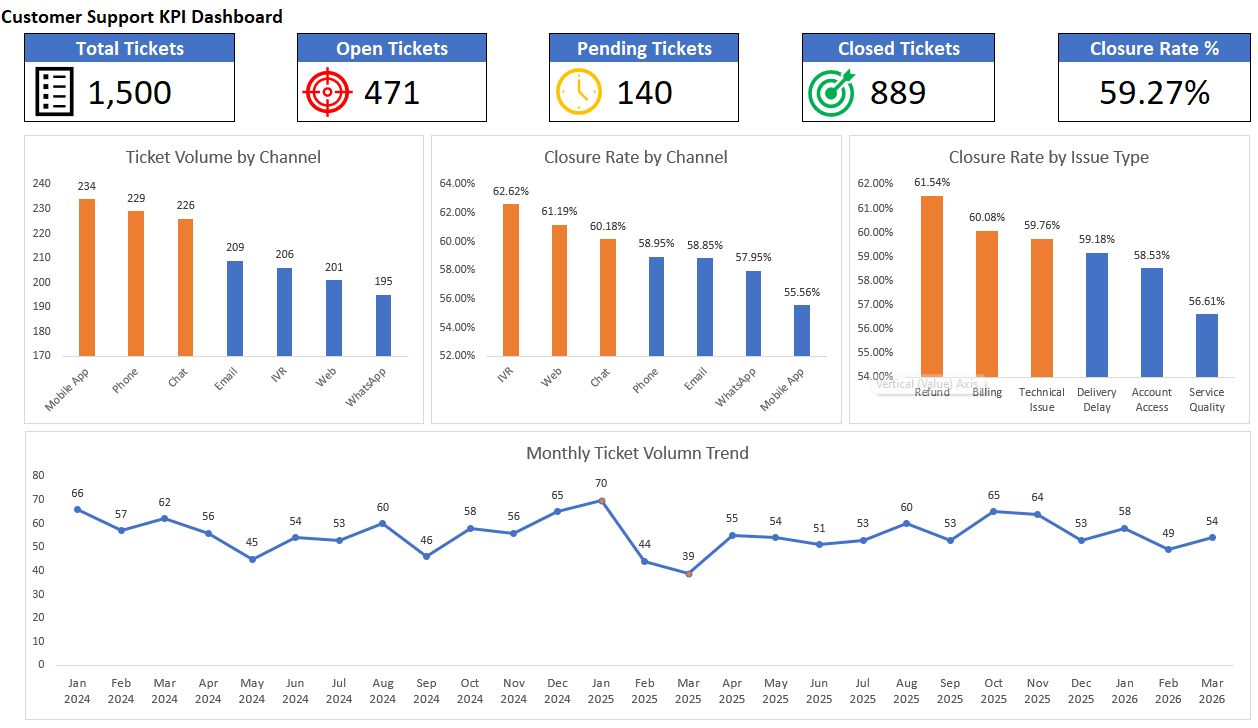

The page's visual inventory and layout, read from the dashboard file:
{"tool":"powerbi","page":{"name":"Channel Analysis","canvas":[1480,900],"ordinal":0},"visuals":[{"type":"textbox","box":[0,0,688,48],"z":0,"group":"g1"},{"type":"cardVisual","fields":{"Data":["support_tickets.Total Tickets"]},"box":[16,128,256,144],"z":0},{"type":"textbox","box":[0,48,688,48],"z":1000,"group":"g1"},{"type":"cardVisual","fields":{"Data":["support_tickets.Open Tickets"]},"box":[624,128,240,144],"z":1000},{"type":"cardVisual","fields":{"Data":["support_tickets.Closed Tickets"]},"box":[336,128,240,144],"z":2000},{"type":"cardVisual","fields":{"Data":["support_tickets.Pending Tickets"]},"box":[912,128,240,144],"z":3000},{"type":"cardVisual","fields":{"Data":["support_tickets.Closure Rate"]},"box":[1200,128,256,144],"z":4000},{"type":"columnChart","title":"Total Tickets by Channel","fields":{"Category":["support_tickets.channel"],"Y":["CountNonNull(support_tickets.ticket_id)"]},"box":[0,288,480,336],"z":5000},{"type":"columnChart","title":"Closure Rate by Channel","fields":{"Category":["support_tickets.channel"],"Y":["support_tickets.Closure Rate"]},"box":[512,288,464,336],"z":6000},{"type":"columnChart","title":"Unresolved Tickets by Channel","fields":{"Y":["support_tickets.Unresolved Tickets"],"Category":["support_tickets.channel"]},"box":[1016,288,464,336],"z":7000},{"type":"lineChart","title":"Monthly Trend Analysis - Channel","fields":{"Y":["support_tickets.Total Tickets"],"Category":["support_tickets.Month Year"]},"box":[0,640,1216,256],"z":8000},{"type":"slicer","title":"Period","fields":{"Values":["support_tickets.month_start.Variation.Date Hierarchy.Year","support_tickets.month_start.Variation.Date Hierarchy.Quarter","support_tickets.month_start.Variation.Date Hierarchy.Month","support_tickets.month_start.Variation.Date Hierarchy.Day"]},"box":[1216,656,128,240],"z":9000},{"type":"slicer","title":"Channel","fields":{"Values":["support_tickets.channel"]},"box":[1336,656,144,240],"z":10000},{"type":"group","id":"g1","title":"Group 1","box":[0,0,688,96],"z":11000},{"type":"textbox","box":[1008,0,448,96],"z":12000}]}

Visuals, with their boxes on the page's 1480x900 design canvas (x1, y1, x2, y2). These are canvas units, not pixel positions in the 1258x728 screenshot, which may show the page scaled, cropped or inside an application window:
textbox: {"left": 0, "top": 0, "right": 688, "bottom": 48}
cardVisual - support_tickets.Total Tickets: {"left": 16, "top": 128, "right": 272, "bottom": 272}
textbox: {"left": 0, "top": 48, "right": 688, "bottom": 96}
cardVisual - support_tickets.Open Tickets: {"left": 624, "top": 128, "right": 864, "bottom": 272}
cardVisual - support_tickets.Closed Tickets: {"left": 336, "top": 128, "right": 576, "bottom": 272}
cardVisual - support_tickets.Pending Tickets: {"left": 912, "top": 128, "right": 1152, "bottom": 272}
cardVisual - support_tickets.Closure Rate: {"left": 1200, "top": 128, "right": 1456, "bottom": 272}
"Total Tickets by Channel" columnChart: {"left": 0, "top": 288, "right": 480, "bottom": 624}
"Closure Rate by Channel" columnChart: {"left": 512, "top": 288, "right": 976, "bottom": 624}
"Unresolved Tickets by Channel" columnChart: {"left": 1016, "top": 288, "right": 1480, "bottom": 624}
"Monthly Trend Analysis - Channel" lineChart: {"left": 0, "top": 640, "right": 1216, "bottom": 896}
"Period" slicer: {"left": 1216, "top": 656, "right": 1344, "bottom": 896}
"Channel" slicer: {"left": 1336, "top": 656, "right": 1480, "bottom": 896}
"Group 1" group: {"left": 0, "top": 0, "right": 688, "bottom": 96}
textbox: {"left": 1008, "top": 0, "right": 1456, "bottom": 96}
